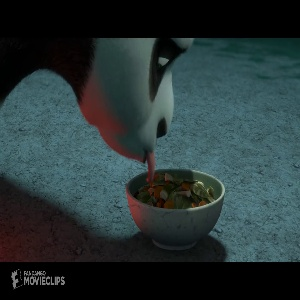po: (49, 35, 197, 163)
